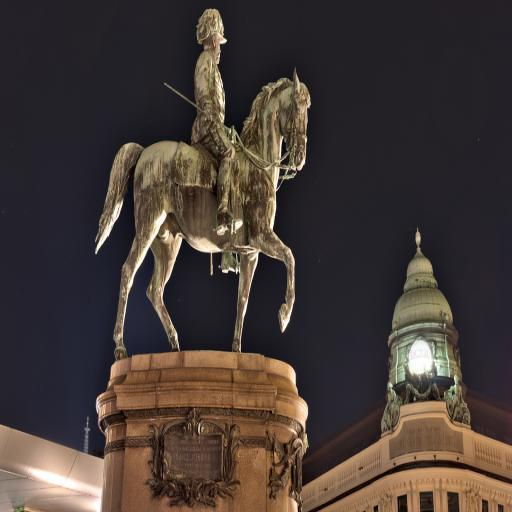horse: (96, 70, 314, 356)
